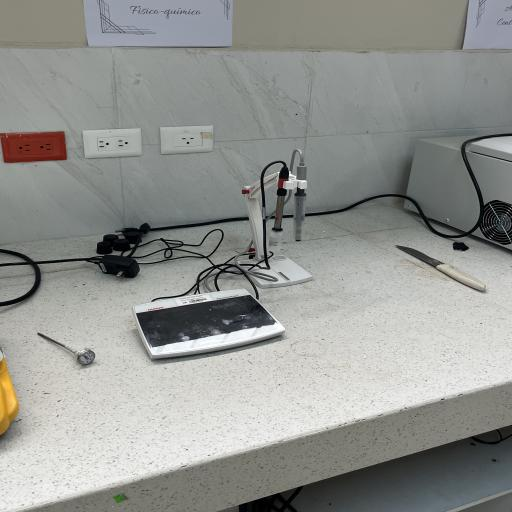Phmetro_Ohaus: (127, 289, 288, 357)
